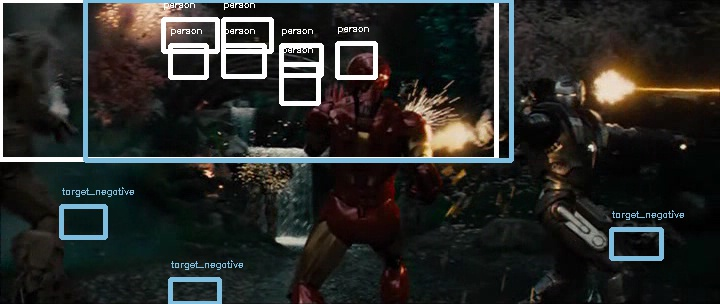person: (339, 50, 390, 96), (338, 50, 389, 96), (340, 50, 391, 96), (339, 49, 390, 95), (339, 51, 390, 97)
target_negative: (351, 213, 456, 291), (12, 224, 472, 236), (281, 213, 529, 235), (511, 225, 614, 274), (292, 285, 639, 298), (173, 235, 256, 260)
